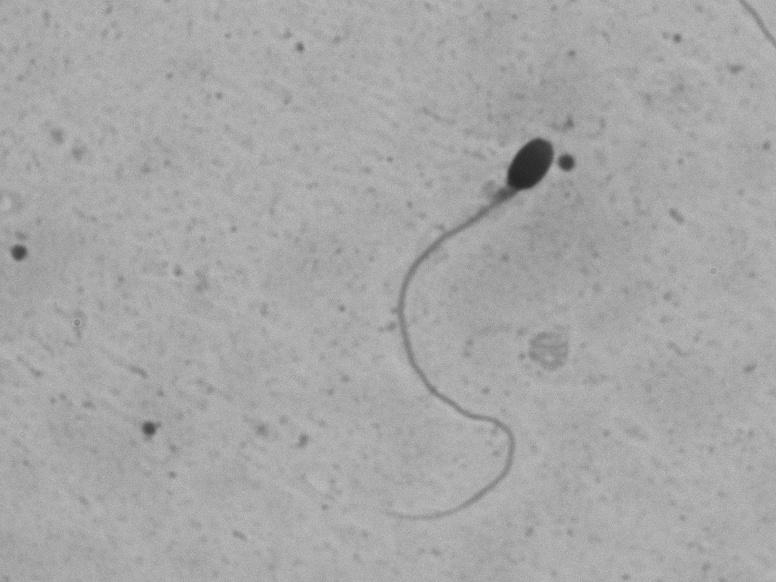Normal: (378, 120, 560, 538)
